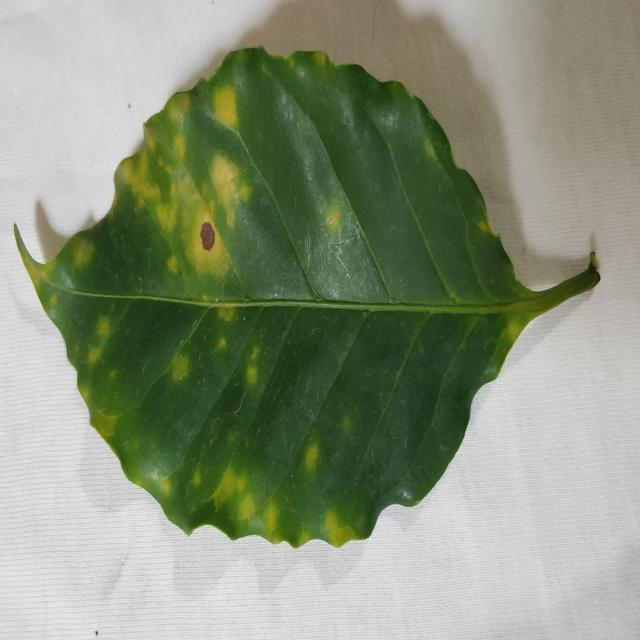Enfermedad-Roya: (14, 46, 602, 550)
